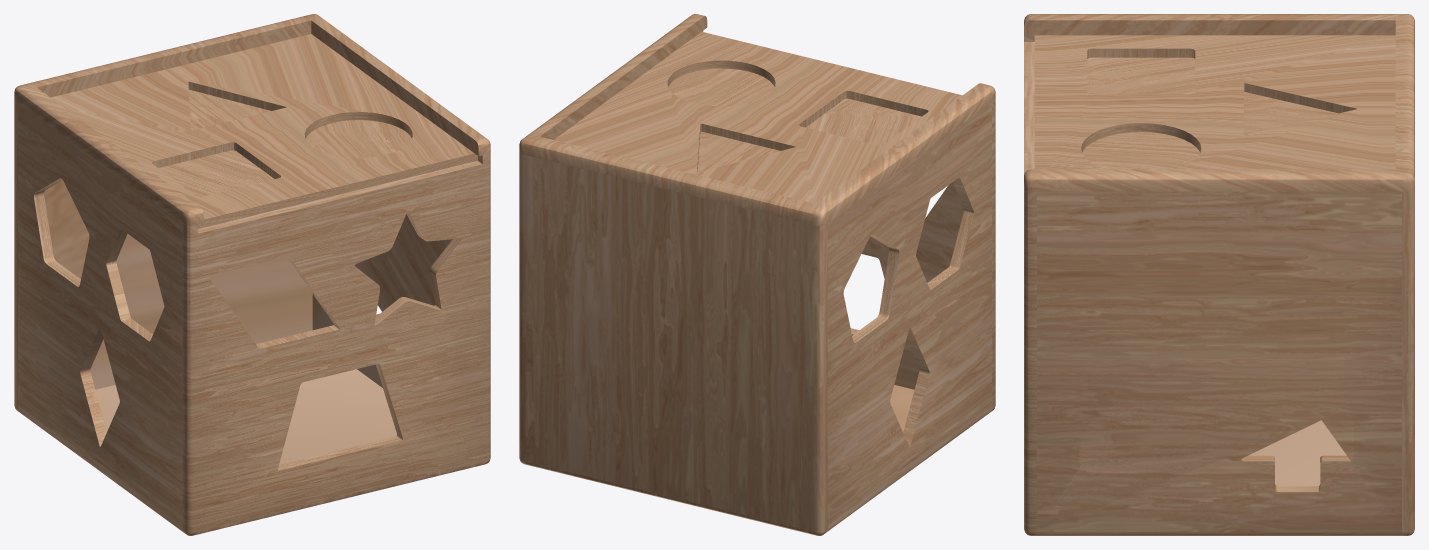
Rendered from ShapeToyBox.fbx.
3 renders of one model, left to right at view 1: azimuth 30°, elevation 25°; view 2: azimuth 150°, elevation 25°; view 3: azimuth 270°, elevation 25°, orthographic. The views are drawn at different scales.
Parts seen in each view (by area): view 1: ShapeBox; view 2: ShapeBox; view 3: ShapeBox.
Part boxes in pixels (x1,y1,x2,y2): ShapeBox: [14, 14, 490, 535]; ShapeBox: [519, 14, 995, 535]; ShapeBox: [1024, 14, 1414, 535].
Size of the model in its own units: 3 by 3.06 by 3.
1 material, 1 textured.
